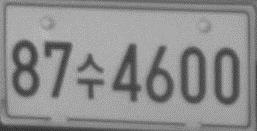0: (181, 46, 207, 104), (214, 47, 240, 104)
4: (112, 43, 142, 103)
6: (146, 44, 175, 104)
7: (43, 41, 73, 97)
8: (10, 39, 39, 96)
수: (75, 53, 105, 99)
